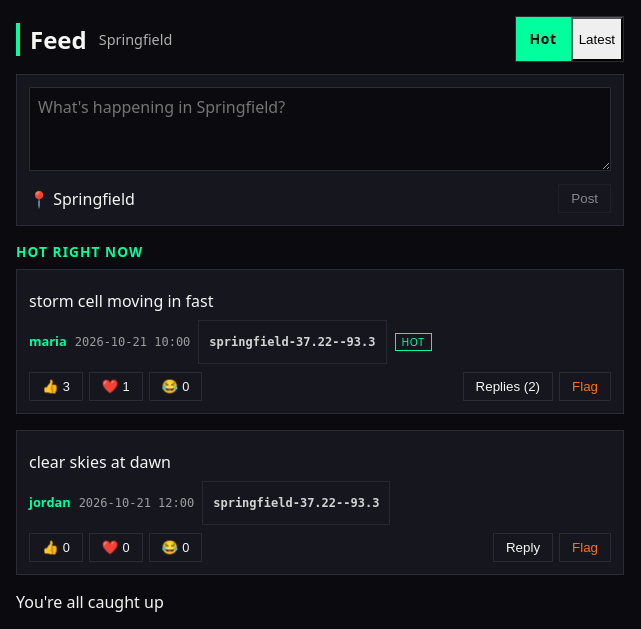
Test case: FeedPage interactions › sort toggle switches hot/new views
Expected: the element with test id "post-p_hot" is shown, [16,269,624,414]
Click the tab with test id "feed-tab-latest": (597, 39) [571,17,623,61]
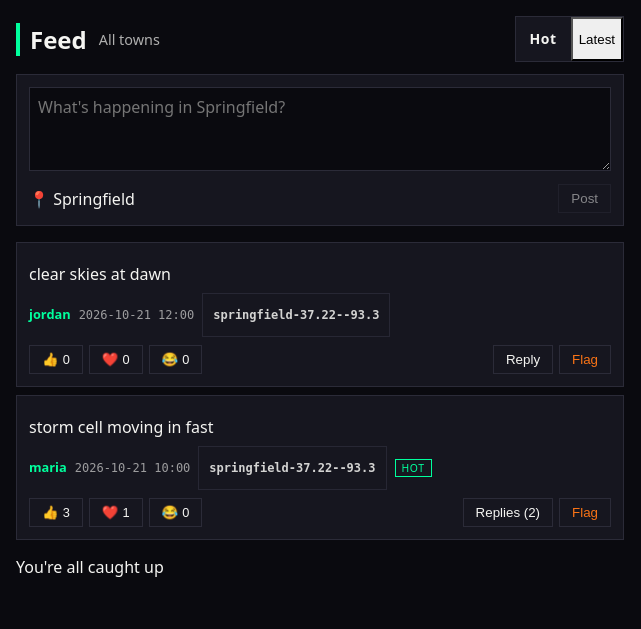
Expected: the element with test id "post-p_new" is shown, [16,242,624,387]
Expected: the element with test id "hot-pinned" is gone
